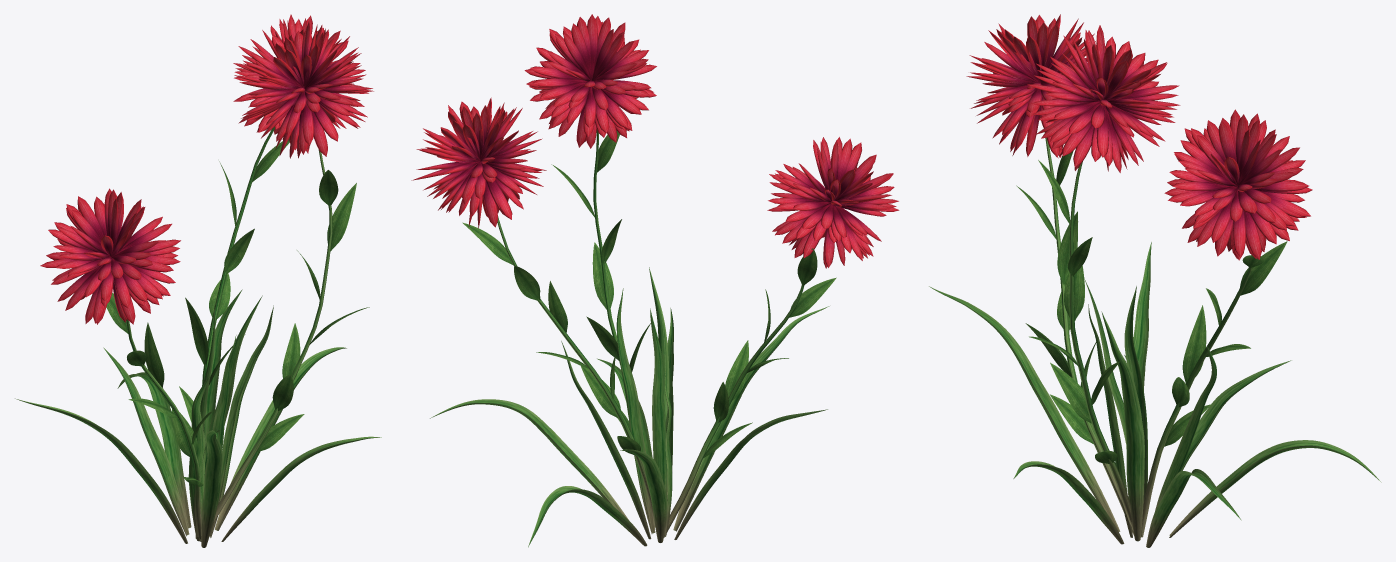
File: Pisacan flower.fbx
The picture shows the model from 3 angles, left to right: view 1: azimuth 30°, elevation 25°; view 2: azimuth 150°, elevation 25°; view 3: azimuth 270°, elevation 25°; orthographic projection. The views are drawn at different scales.
Visible parts, largest first — view 1: Pisacan_flower; view 2: Pisacan_flower; view 3: Pisacan_flower.
Part boxes in pixels (x1,y1,x2,y2): Pisacan_flower: [15, 14, 381, 547]; Pisacan_flower: [411, 14, 899, 547]; Pisacan_flower: [929, 14, 1381, 547].
Size of the model in its own units: 60.15 by 72.93 by 54.39.
4 materials, 4 textured.
